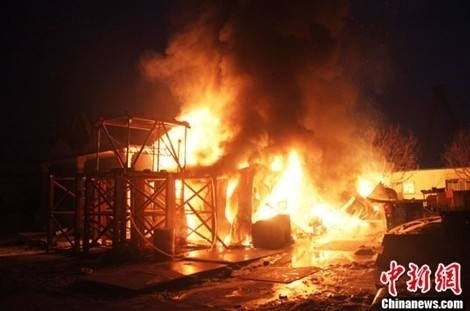fire: (113, 100, 376, 262)
